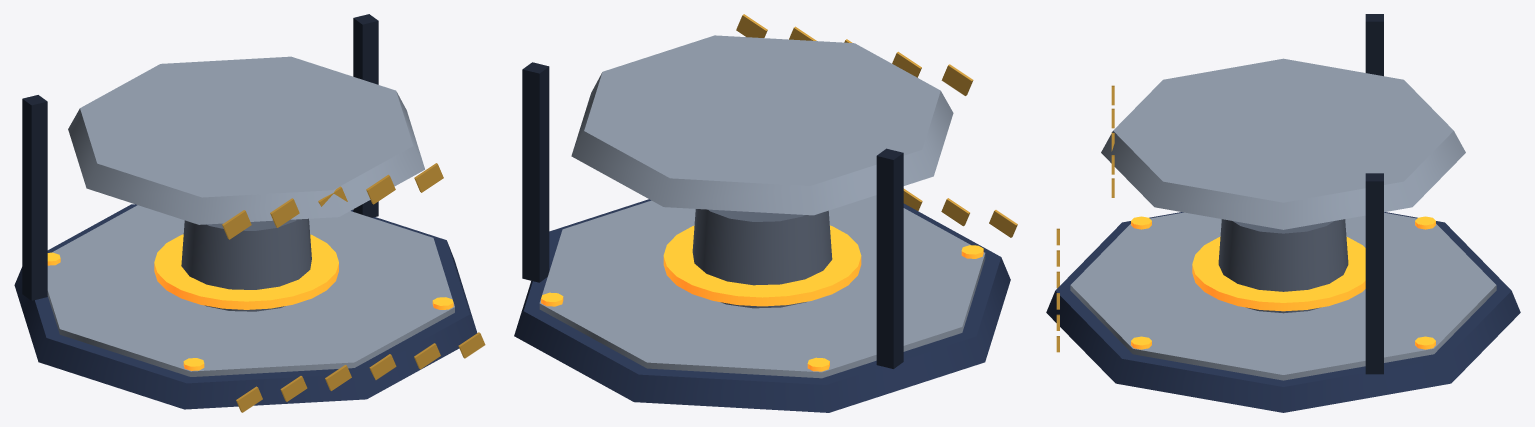
Rendered from trap_launcher_charged.glb.
3 renders of one model, left to right at view 1: azimuth 30°, elevation 25°; view 2: azimuth 150°, elevation 25°; view 3: azimuth 270°, elevation 25°, orthographic. The views are drawn at different scales.
Visible parts, largest first — view 1: trap_launcher_pad, trap_launcher_plate_rim, trap_launcher_plate, trap_launcher_cylinder, trap_launcher_ring, trap_launcher_guide_l, trap_launcher_hazard, trap_launcher_pad_hazard, trap_launcher_guide_r; view 2: trap_launcher_pad, trap_launcher_plate_rim, trap_launcher_plate, trap_launcher_cylinder, trap_launcher_ring, trap_launcher_guide_l, trap_launcher_guide_r, trap_launcher_pad_hazard, trap_launcher_hazard; view 3: trap_launcher_pad, trap_launcher_plate_rim, trap_launcher_plate, trap_launcher_cylinder, trap_launcher_ring, trap_launcher_guide_r, trap_launcher_guide_l.
Boxes of the visible parts, x1,y1,x2,y2 form: trap_launcher_pad: [68, 56, 424, 224]; trap_launcher_plate_rim: [47, 205, 454, 376]; trap_launcher_plate: [14, 204, 477, 409]; trap_launcher_cylinder: [181, 218, 311, 311]; trap_launcher_ring: [154, 234, 338, 309]; trap_launcher_guide_l: [22, 95, 47, 300]; trap_launcher_hazard: [236, 332, 485, 412]; trap_launcher_pad_hazard: [222, 163, 443, 239]; trap_launcher_guide_r: [353, 14, 378, 217]; trap_launcher_pad: [571, 35, 953, 215]; trap_launcher_plate_rim: [539, 195, 985, 378]; trap_launcher_plate: [514, 199, 1010, 412]; trap_launcher_cylinder: [692, 209, 832, 308]; trap_launcher_ring: [663, 225, 861, 306]; trap_launcher_guide_l: [876, 148, 903, 368]; trap_launcher_guide_r: [522, 62, 549, 282]; trap_launcher_pad_hazard: [736, 14, 973, 95]; trap_launcher_hazard: [903, 188, 1017, 237]; trap_launcher_pad: [1101, 58, 1465, 229]; trap_launcher_plate_rim: [1070, 212, 1496, 380]; trap_launcher_plate: [1046, 212, 1520, 412]; trap_launcher_cylinder: [1218, 219, 1348, 313]; trap_launcher_ring: [1192, 236, 1365, 311]; trap_launcher_guide_r: [1365, 173, 1383, 374]; trap_launcher_guide_l: [1365, 14, 1383, 76].
Bounding box in the file's own units: 1.56 × 0.78 × 1.56.
